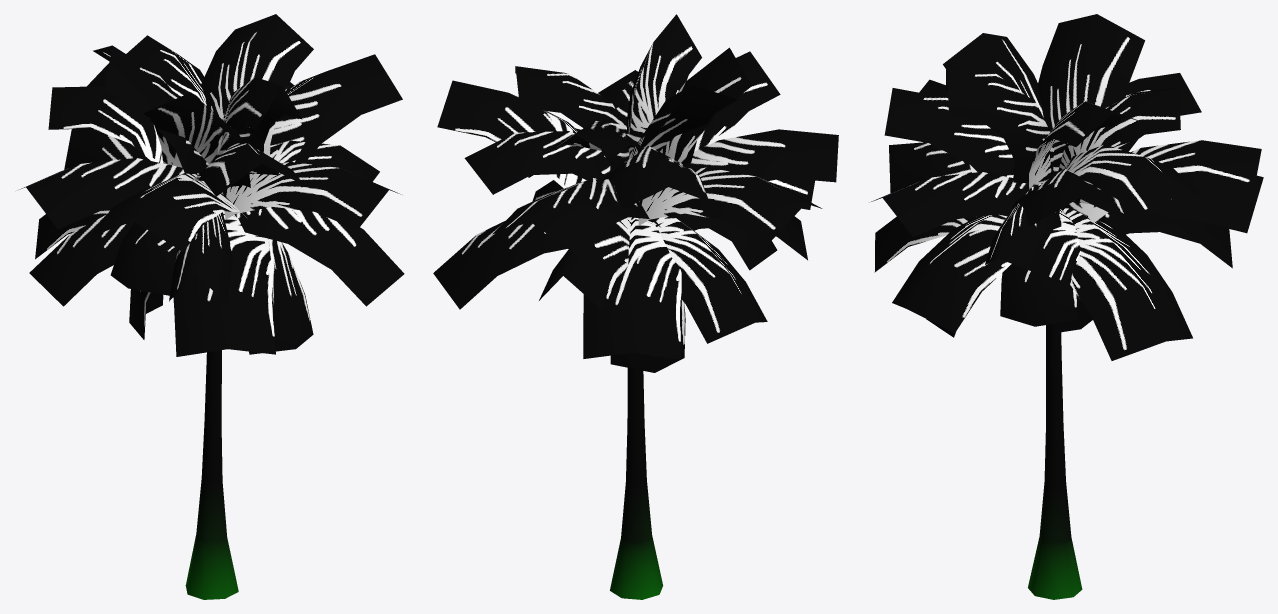
Rendered from P_CoconutPalmC01.obj.
The picture shows the model from 3 angles, left to right: view 1: azimuth 30°, elevation 25°; view 2: azimuth 150°, elevation 25°; view 3: azimuth 270°, elevation 25°; orthographic projection.
Bounding box in the file's own units: 6.76 × 9.9 × 6.62.
